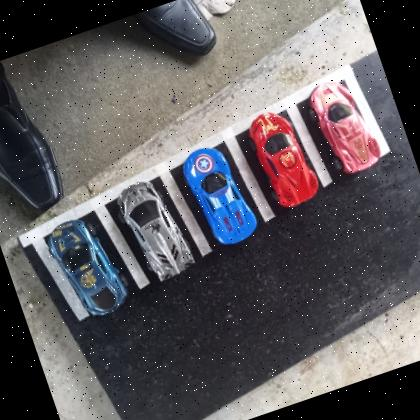Car: (42, 208, 132, 324), (110, 173, 199, 287), (177, 138, 262, 252), (242, 104, 324, 214), (302, 72, 384, 180)
